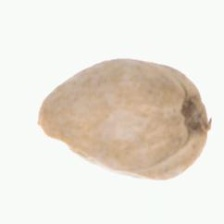L3: (37, 118, 81, 155)
L4: (39, 57, 210, 180)
